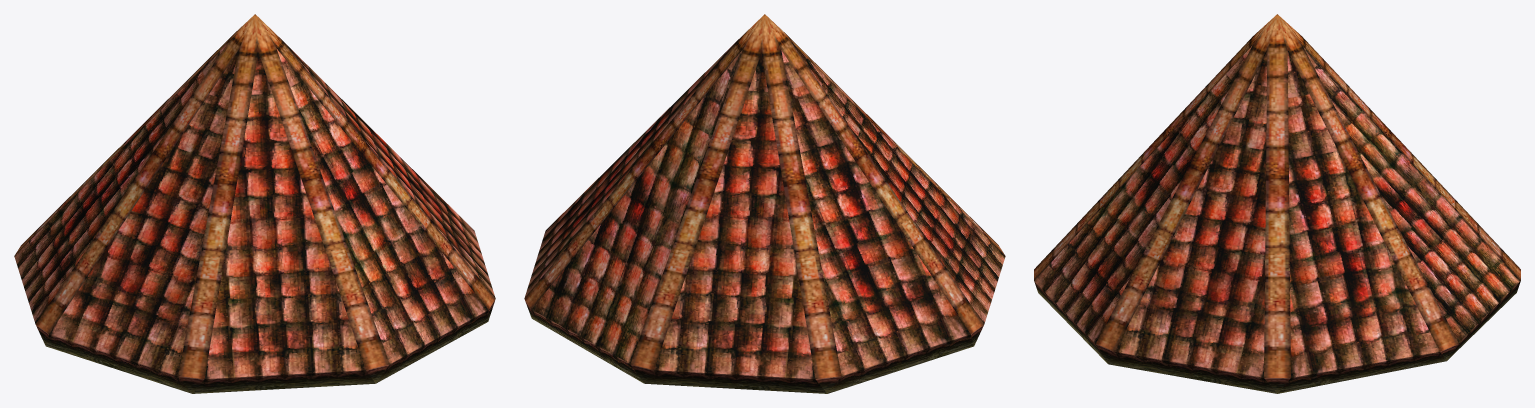
3 renders of one model, left to right at view 1: azimuth 30°, elevation 25°; view 2: azimuth 150°, elevation 25°; view 3: azimuth 270°, elevation 25°, orthographic.
Visible parts, largest first — view 1: cc42; view 2: cc42; view 3: cc42.
Boxes of the visible parts, box(x1,y1,x2,y2) form: cc42: box(14, 14, 495, 393); cc42: box(524, 14, 1005, 393); cc42: box(1034, 14, 1520, 393).
Bounding box in the file's own units: 7.12 × 4.5 × 7.12.
4 materials, 4 textured.
